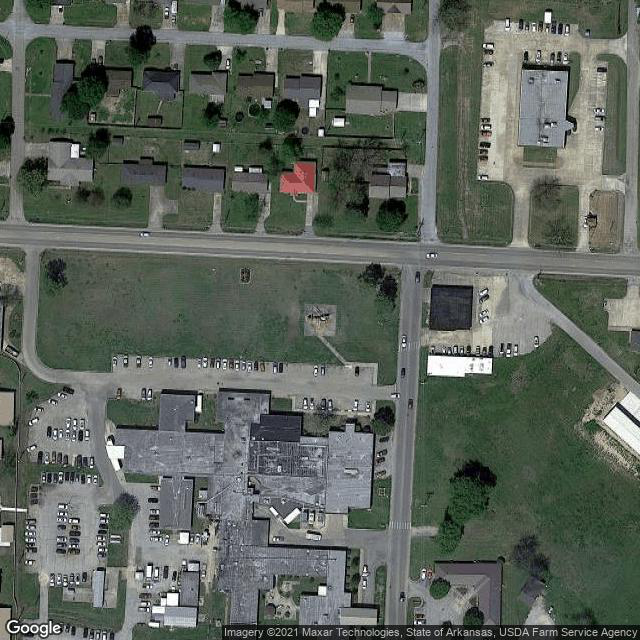Helipad: (302, 298, 337, 340)
